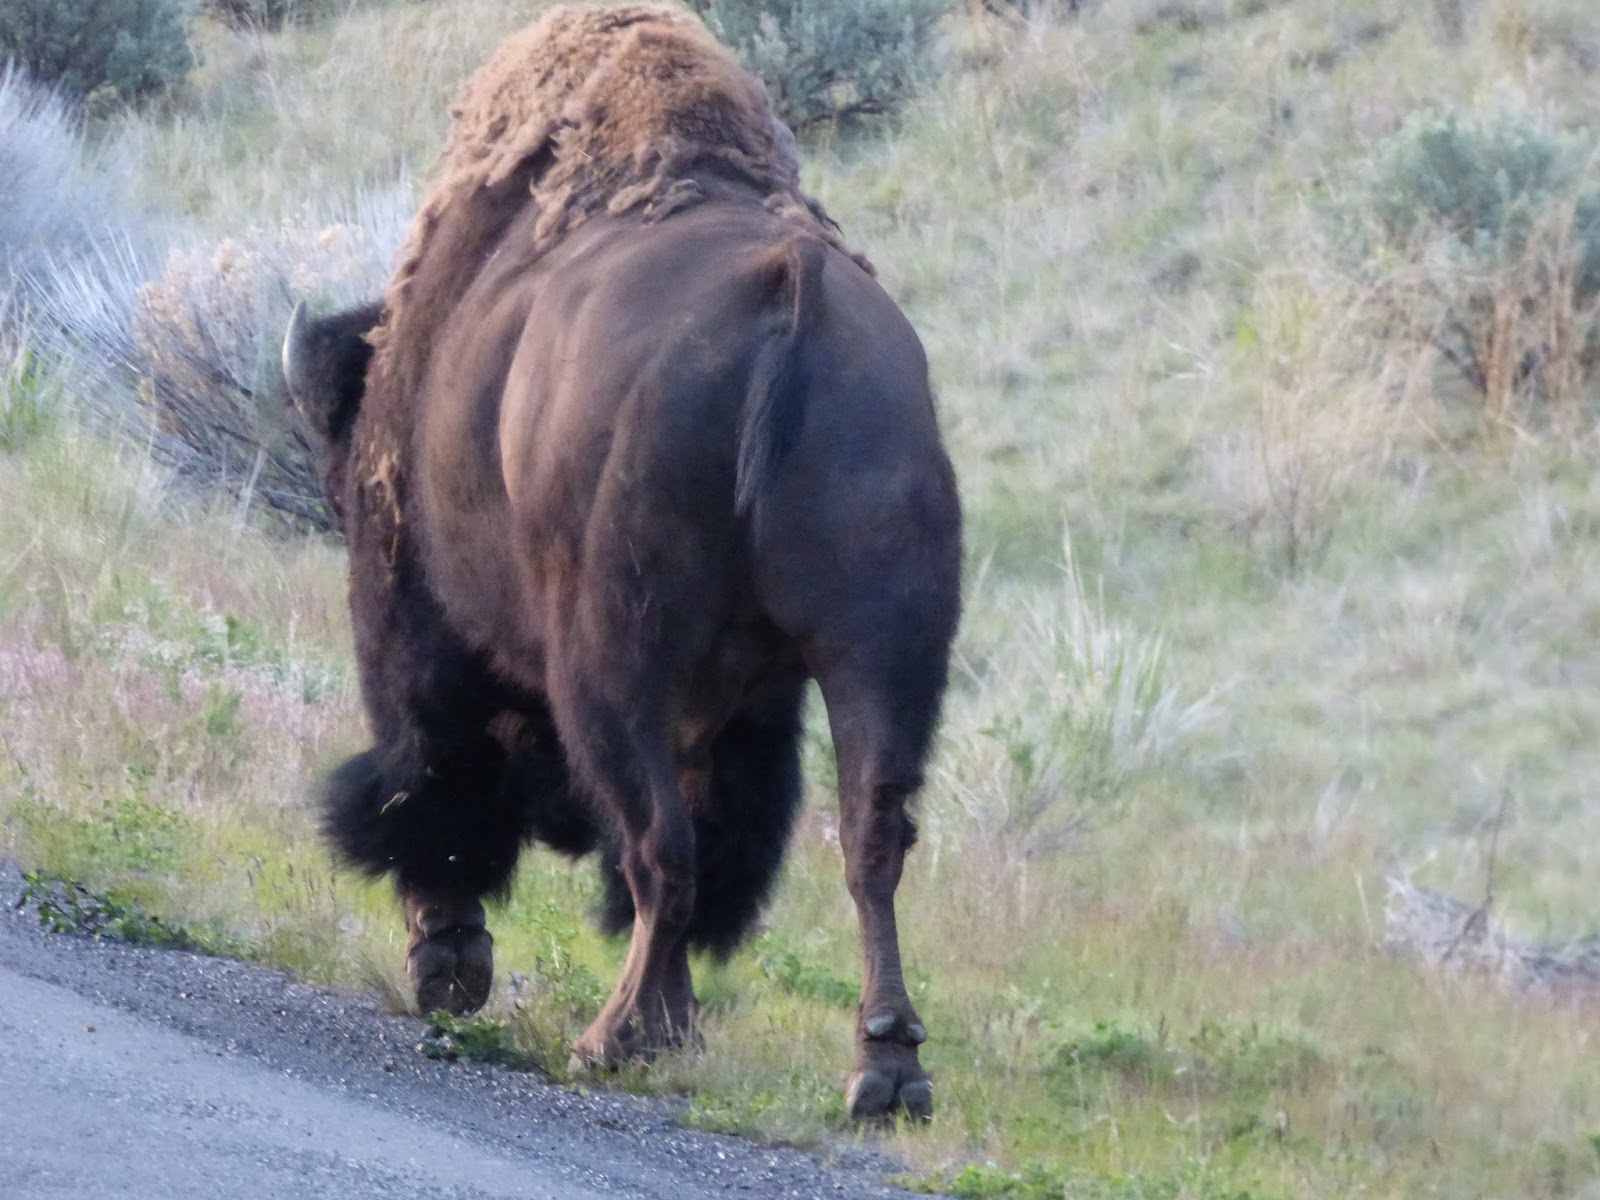yak: (304, 25, 957, 1134)
